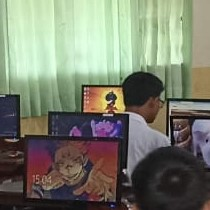monitor: (22, 135, 124, 206), (47, 111, 129, 170), (166, 98, 210, 171), (81, 84, 125, 113), (0, 94, 21, 139)
